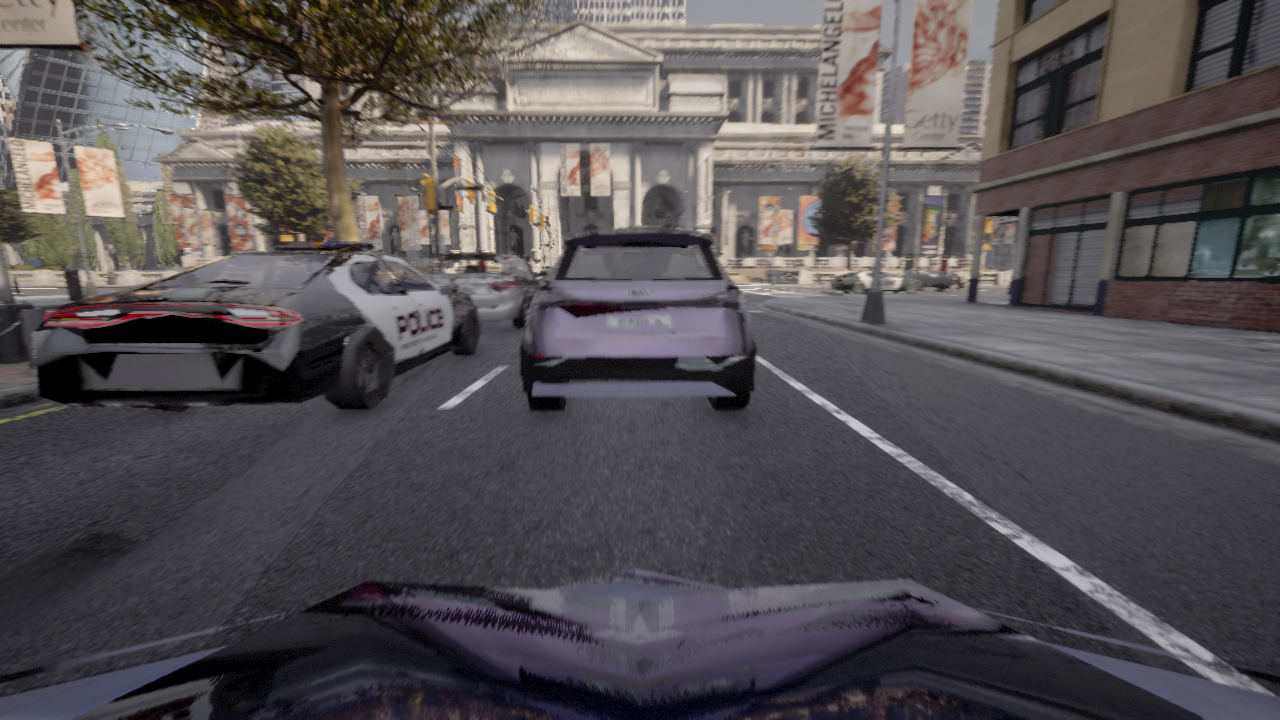cyclist: (0, 569, 1279, 719), (33, 242, 480, 412), (521, 226, 755, 411), (428, 253, 544, 327), (831, 268, 925, 294), (897, 269, 965, 291), (536, 267, 552, 281)
pedestrian: (525, 255, 533, 271), (476, 250, 482, 252)
